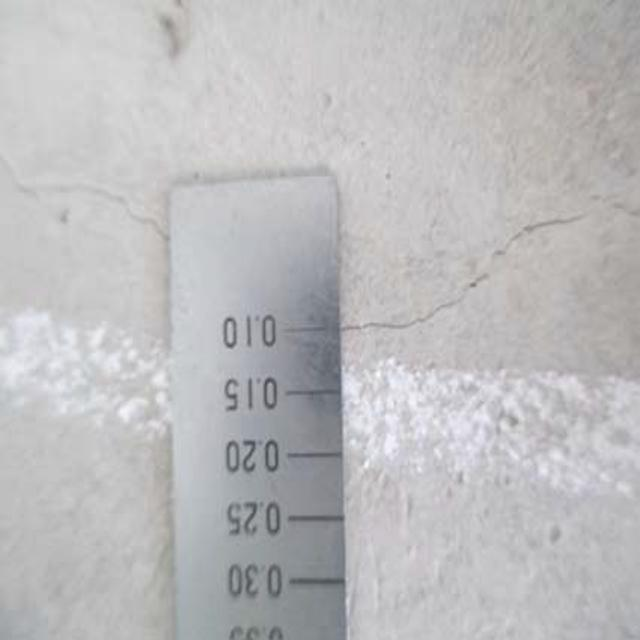crack: (344, 206, 633, 340), (9, 152, 174, 264)
